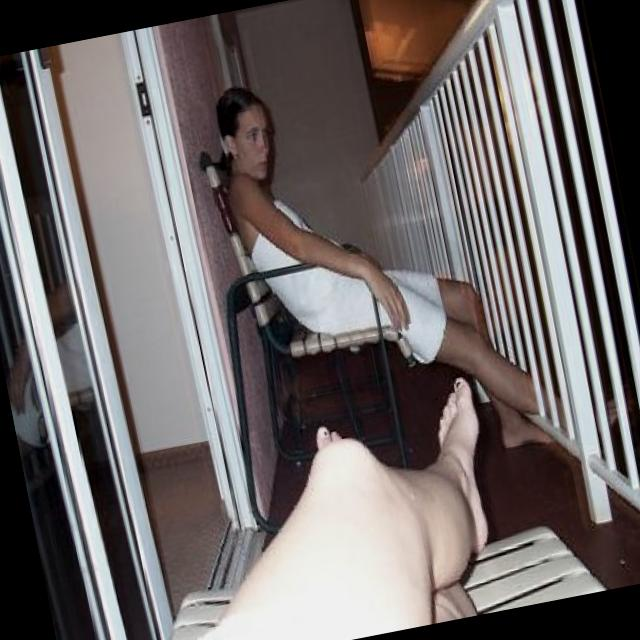Person: (200, 12, 626, 499)
